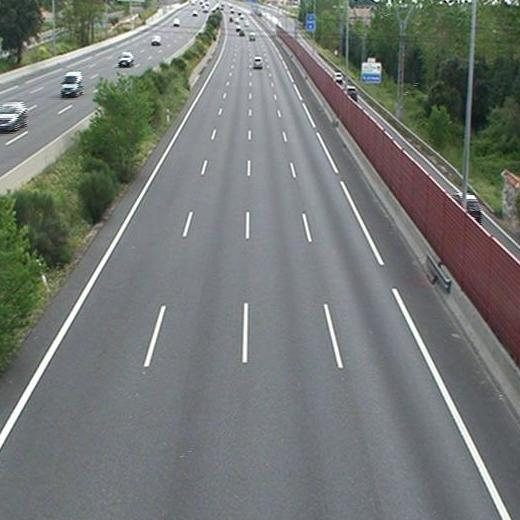car: (253, 56, 264, 69)
